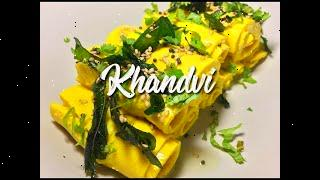khandvi: (73, 2, 279, 65)
